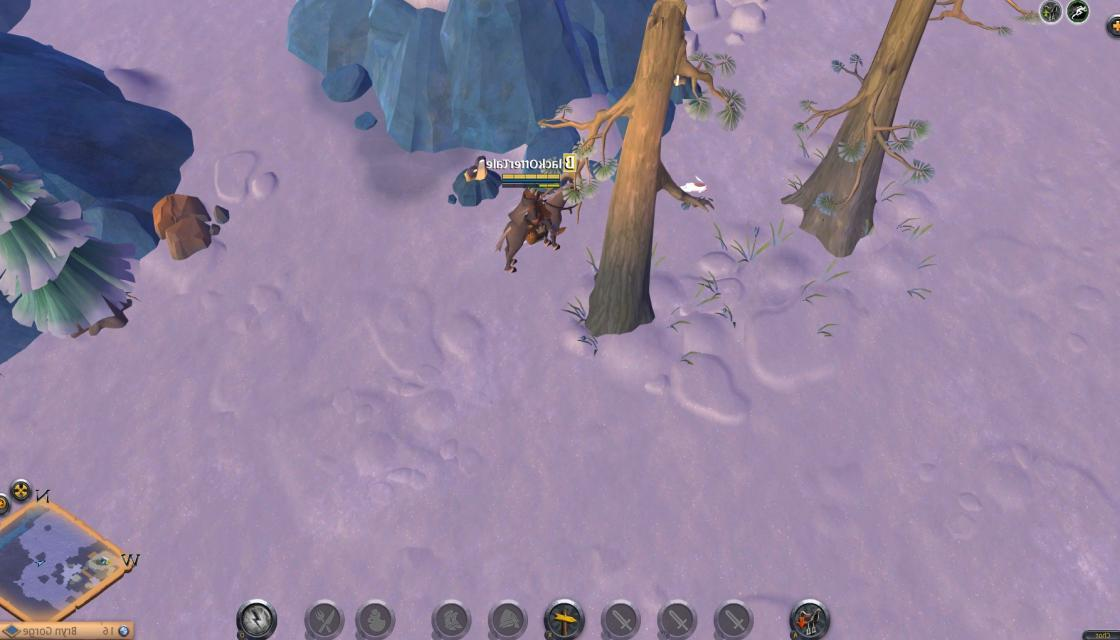copperore: (448, 152, 505, 206)
limestone: (153, 188, 222, 265)
